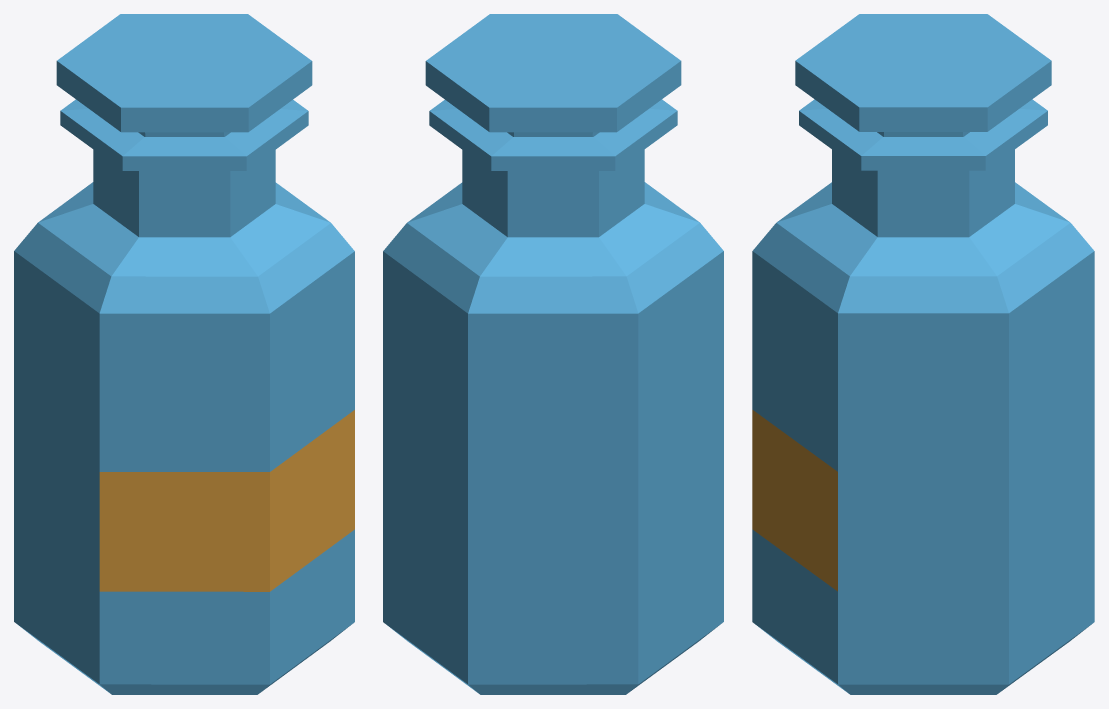
Rendered from SM_Jar_Laboratory_A_Empty.fbx.
The picture shows the model from 3 angles, left to right: view 1: azimuth 30°, elevation 25°; view 2: azimuth 150°, elevation 25°; view 3: azimuth 270°, elevation 25°; orthographic projection.
Visible parts, largest first — view 1: jar-laboratory-a-empty; view 2: jar-laboratory-a-empty; view 3: jar-laboratory-a-empty.
Boxes of the visible parts, box(x1,y1,x2,y2) form: jar-laboratory-a-empty: box(14, 14, 354, 694); jar-laboratory-a-empty: box(383, 14, 723, 694); jar-laboratory-a-empty: box(752, 14, 1094, 694).
Bounding box in the file's own units: 0.138 × 0.2999 × 0.16.
